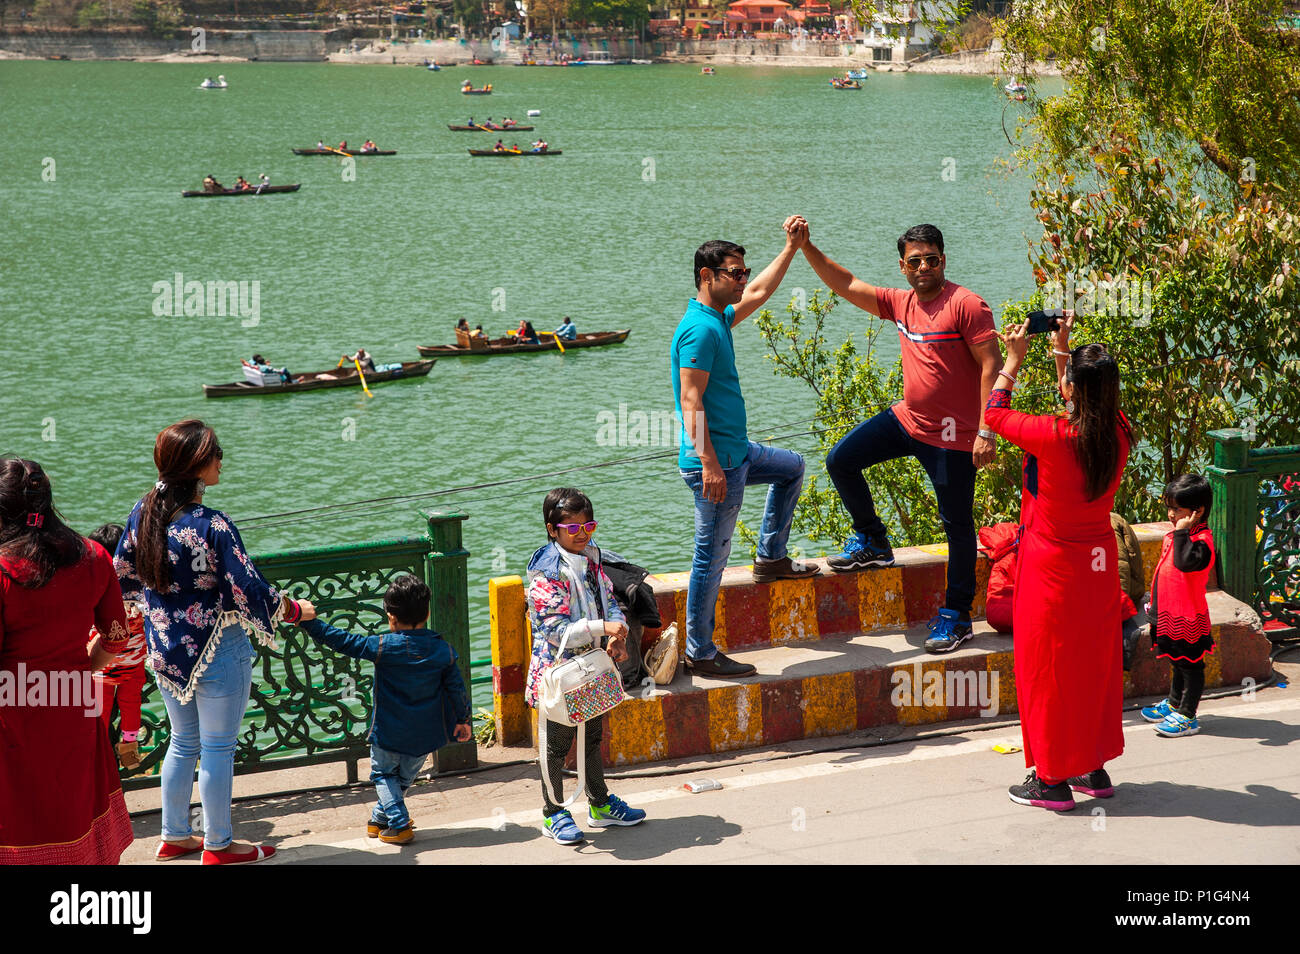person: (152, 429, 230, 499), (1059, 340, 1118, 424), (541, 484, 606, 551), (894, 226, 949, 299), (694, 240, 753, 308), (382, 571, 439, 629), (1167, 476, 1207, 532)
